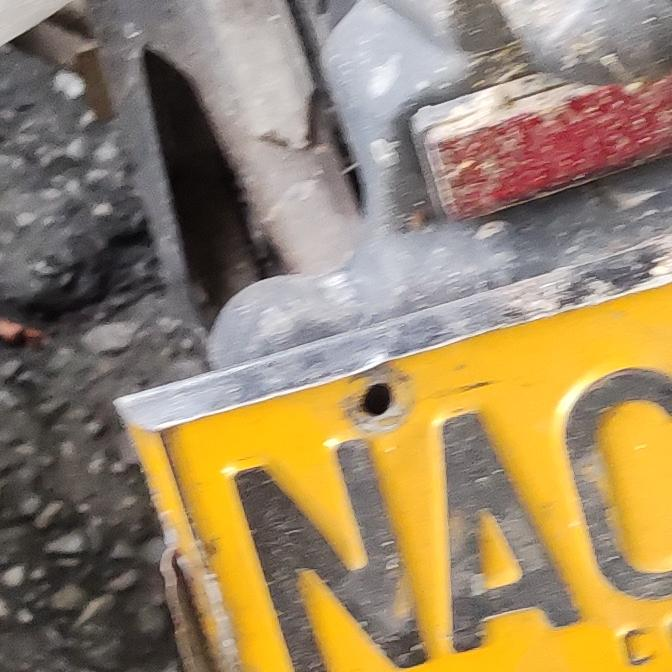plates: (133, 260, 672, 672)
